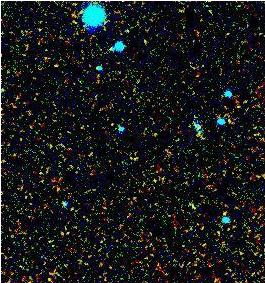star: (98, 109, 128, 139)
